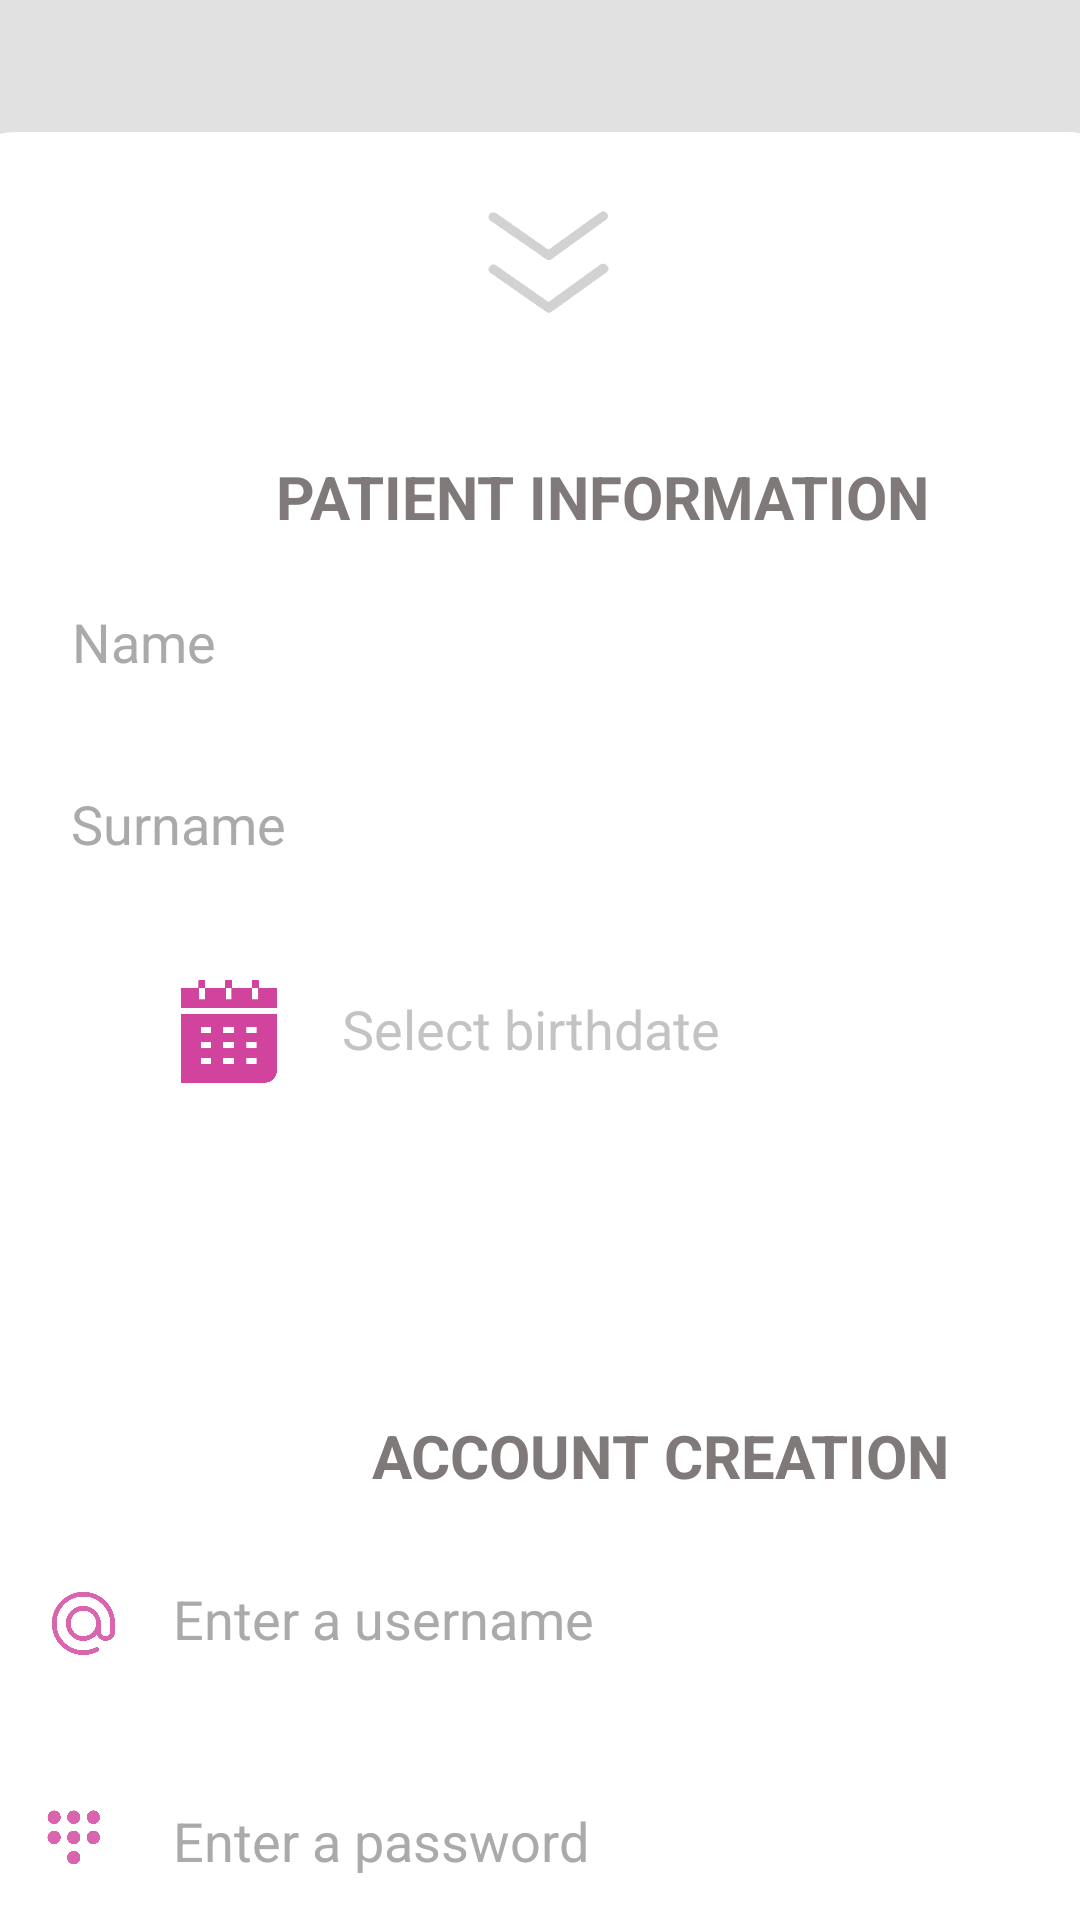

Icon click points for this 1080x1920 phone screenshot, format point (x, y):
noun calendar: point (229, 1031)
noun email: point (83, 1623)
noun password: point (73, 1837)
noun swipe down: point (548, 262)
